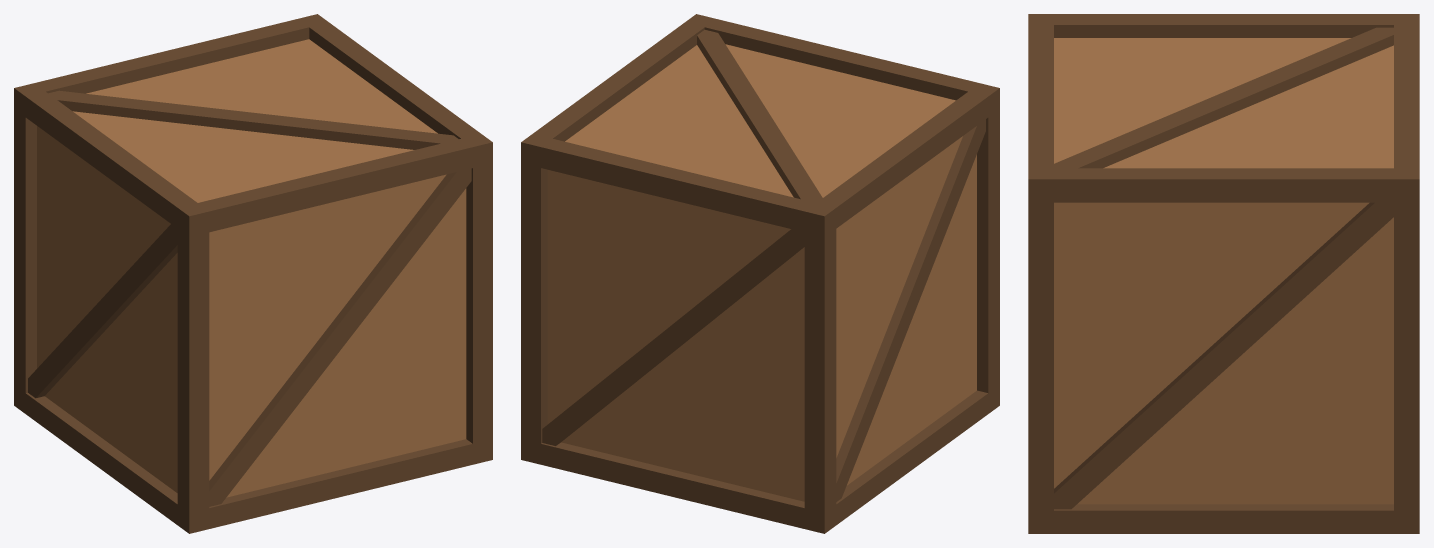
File: Crate.fbx
3 renders of one model, left to right at view 1: azimuth 30°, elevation 25°; view 2: azimuth 150°, elevation 25°; view 3: azimuth 270°, elevation 25°, orthographic. The views are drawn at different scales.
Parts seen in each view (by area): view 1: Cube; view 2: Cube; view 3: Cube.
Boxes of the visible parts, left/top/right/bottom form: Cube: left=14, top=14, right=492, bottom=533; Cube: left=521, top=14, right=999, bottom=533; Cube: left=1028, top=14, right=1419, bottom=533.
Bounding box in the file's own units: 200 × 200 × 200.
